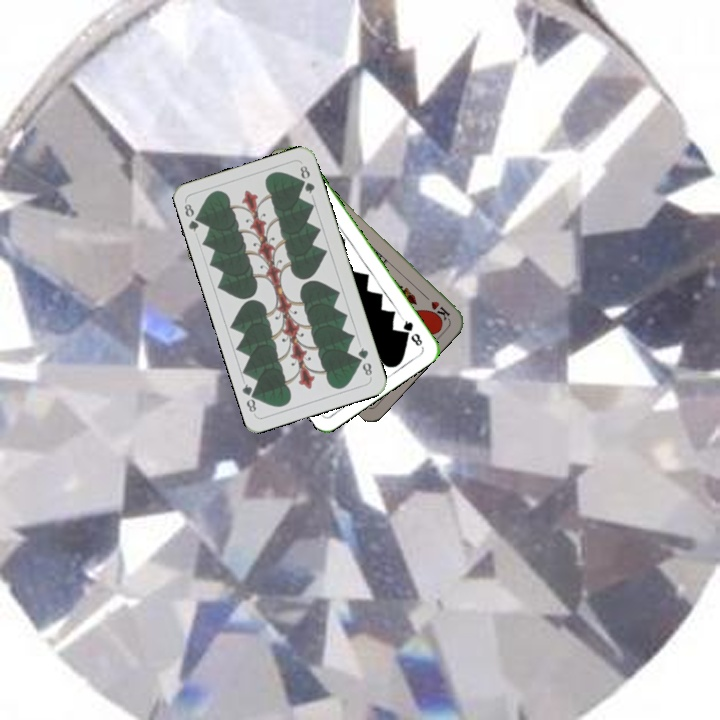G8: (398, 314, 425, 349), (180, 198, 205, 234), (354, 343, 375, 380)
HK: (418, 290, 453, 323)
